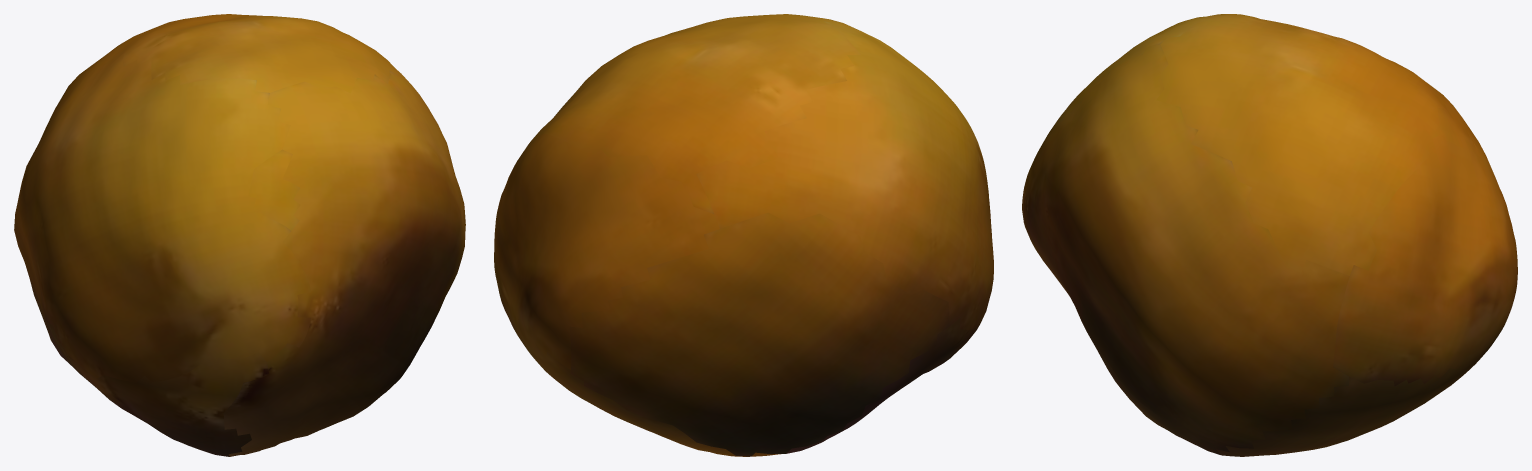
The model's file is fruit_2.glb.
3 views of the same model, side by side, from view 1: azimuth 30°, elevation 25°; view 2: azimuth 150°, elevation 25°; view 3: azimuth 270°, elevation 25° (orthographic).
Visible parts, largest first — view 1: w_fruit_2; view 2: w_fruit_2; view 3: w_fruit_2.
Part boxes in pixels (x1,y1,x2,y2): w_fruit_2: (14, 14, 465, 456); w_fruit_2: (494, 14, 993, 456); w_fruit_2: (1022, 14, 1517, 456).
Bounding box in the file's own units: 0.0735 × 0.0662 × 0.0778.
1 material, 1 textured.
